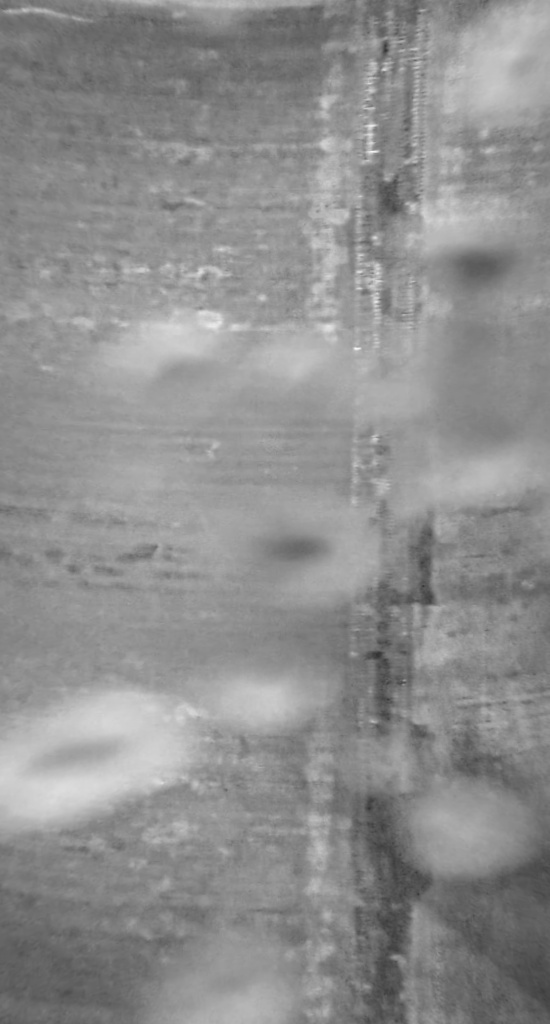splice: (351, 1, 448, 1023)
